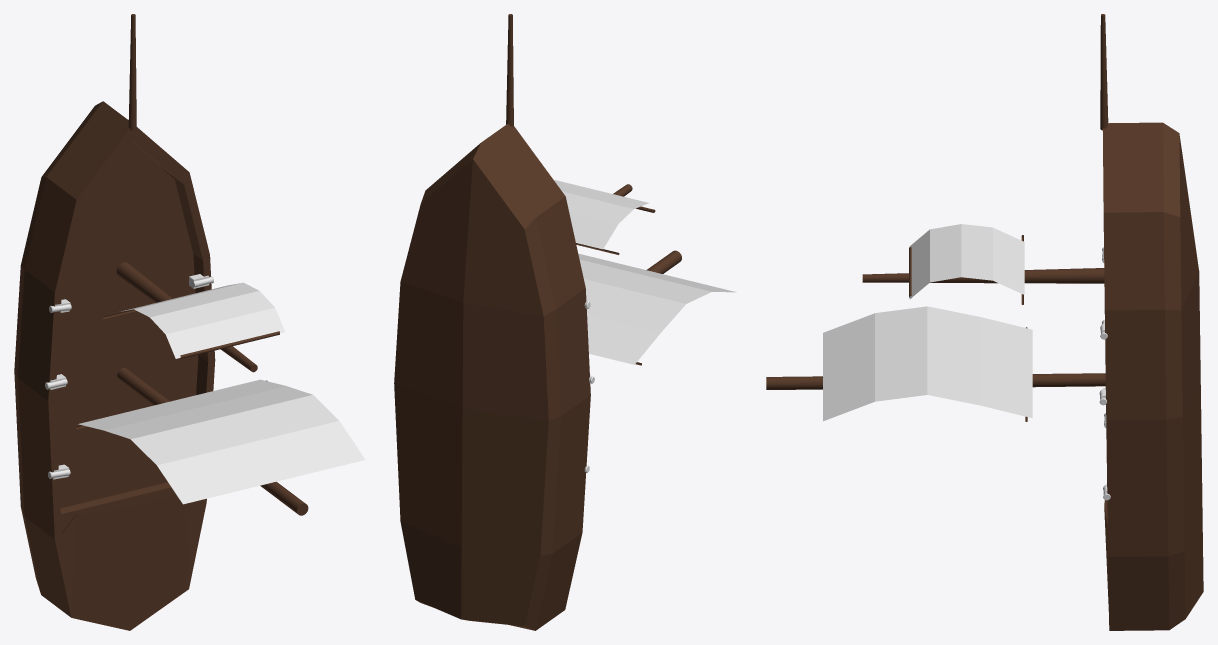
File: skepp2.glb
3 views of the same model, side by side, from view 1: azimuth 30°, elevation 25°; view 2: azimuth 150°, elevation 25°; view 3: azimuth 270°, elevation 25° (orthographic). The views are drawn at different scales.
Visible parts, largest first — view 1: Plane, Plane.001, Plane.002; view 2: Plane, Plane.001, Plane.002; view 3: Plane, Plane.001, Plane.002.
Part boxes in pixels (left/top/right/bottom): Plane: left=14, top=14, right=308, bottom=630; Plane.001: left=78, top=379, right=365, bottom=504; Plane.002: left=121, top=282, right=284, bottom=358; Plane: left=394, top=14, right=681, bottom=630; Plane.001: left=578, top=253, right=736, bottom=364; Plane.002: left=554, top=180, right=648, bottom=249; Plane: left=766, top=14, right=1203, bottom=630; Plane.001: left=823, top=306, right=1032, bottom=421; Plane.002: left=909, top=224, right=1024, bottom=298.
Size of the model in its own units: 11.11 by 34.44 by 22.19.
